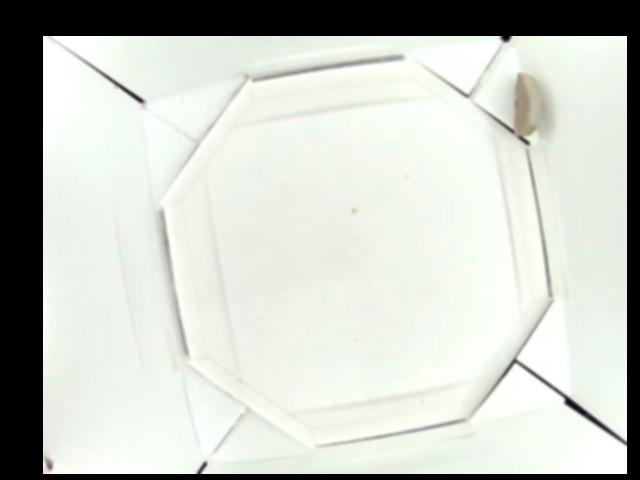China: (513, 72, 544, 138)
